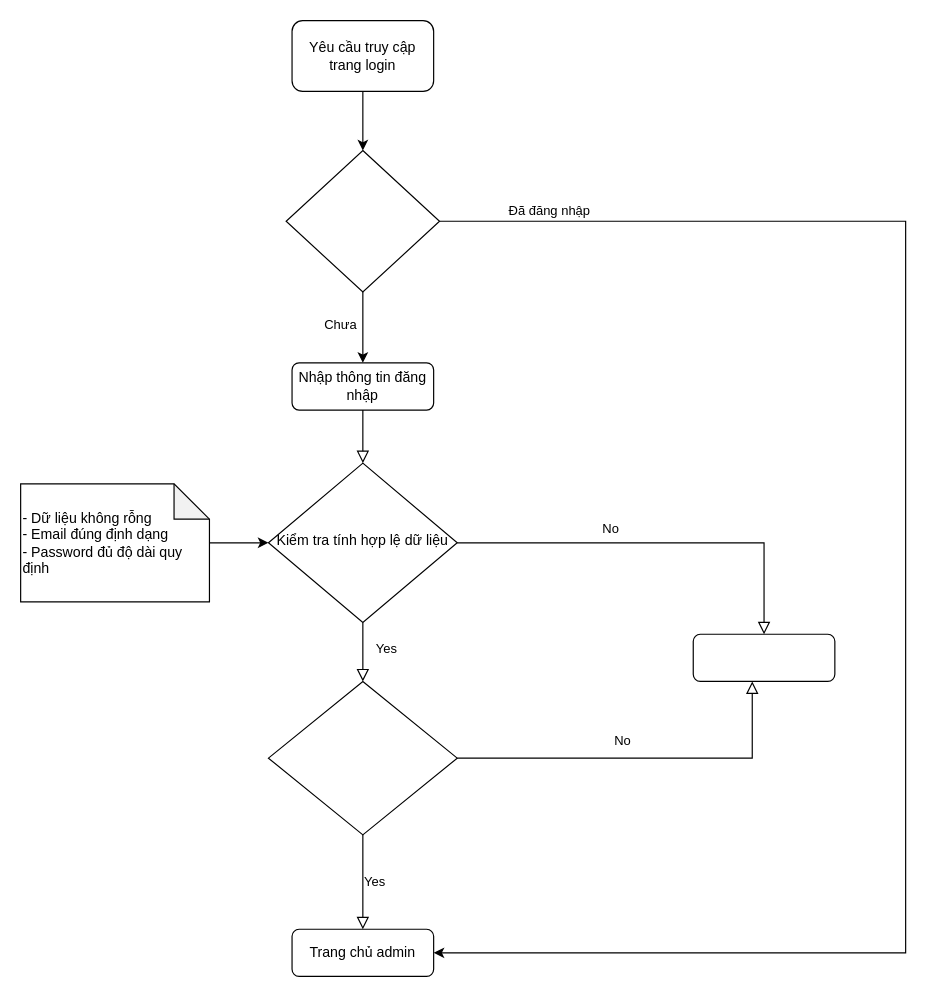
Image size: 936x997. Some labels were removed from this diagram. Each missing label, with the box of its shape:
Kiểm tra thông tin trong db: (267, 680, 457, 835)
Kiểm tra đã đăng nhập hay chưa: (285, 149, 440, 292)
Quay lại trang login: (692, 633, 835, 681)
